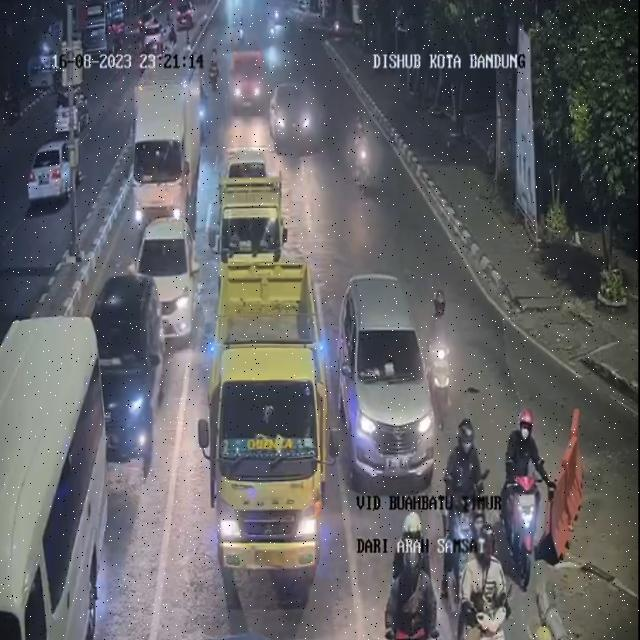cars: (0, 314, 112, 639), (335, 268, 434, 486), (95, 269, 168, 467), (137, 217, 200, 353), (270, 80, 315, 154), (231, 39, 269, 116)
motorcycle: (503, 404, 554, 582), (382, 509, 436, 638), (447, 412, 490, 568), (456, 536, 507, 638), (428, 285, 460, 404), (348, 109, 377, 198), (193, 60, 216, 142)
truck: (198, 236, 328, 608), (214, 147, 286, 341), (131, 58, 195, 244)
